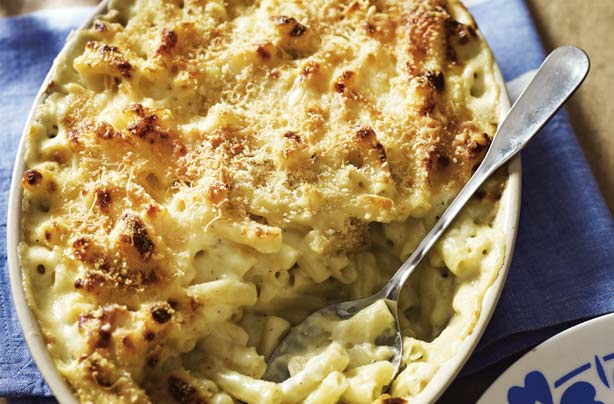macncheese: (31, 1, 502, 404)
